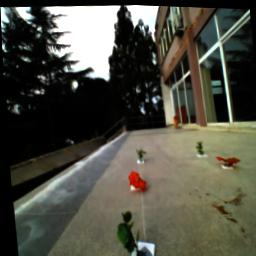herb: (111, 207, 140, 254), (133, 146, 146, 161), (194, 140, 203, 154)
wild: (126, 169, 147, 192), (214, 151, 241, 167)
